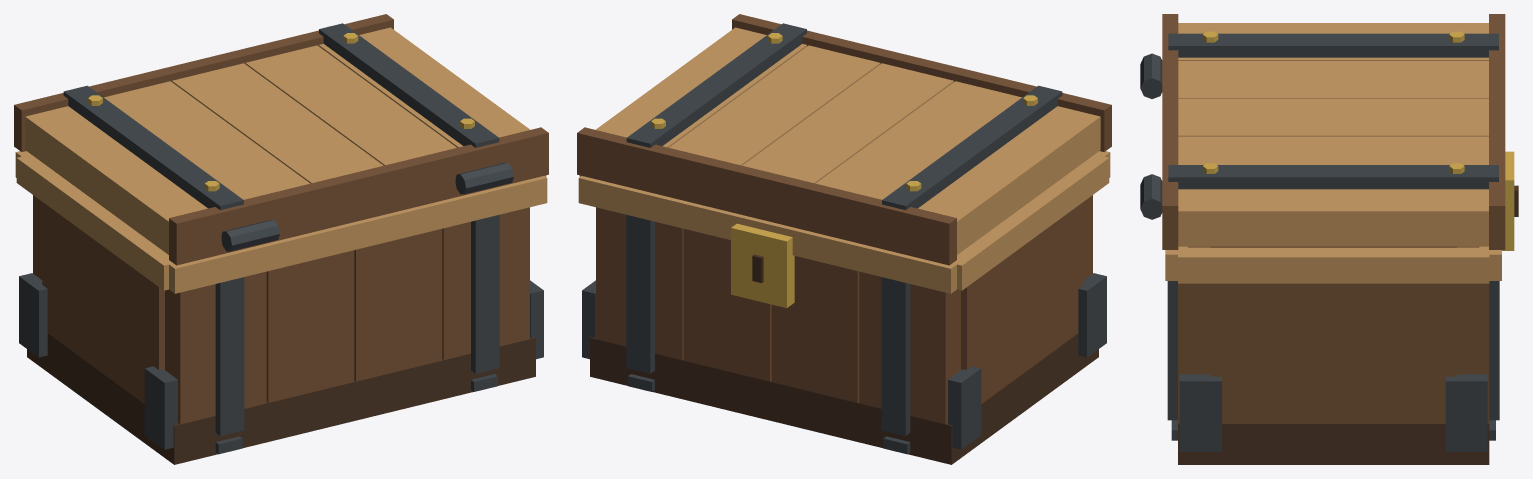
Rendered from chest.fbx.
3 views of the same model, side by side, from view 1: azimuth 30°, elevation 25°; view 2: azimuth 150°, elevation 25°; view 3: azimuth 270°, elevation 25° (orthographic). The views are drawn at different scales.
Visible parts, largest first — view 1: 00_floor, 37_lid_edge, 09_side_wall, 07_wall_plank, 06_wall_plank, 12_rim, 29_lid_plank, 31_lid_plank, 32_lid_plank, 30_lid_plank, 05_wall_plank, 08_wall_plank (+13 smaller); view 2: 36_lid_edge, 00_floor, 09_side_wall, 29_lid_plank, 02_wall_plank, 31_lid_plank, 32_lid_plank, 11_rim, 03_wall_plank, 30_lid_plank, 01_wall_plank, 04_wall_plank (+12 smaller); view 3: 10_side_wall, 33_lid_plank, 31_lid_plank, 30_lid_plank, 14_rim, 00_floor, 32_lid_plank, 34_lid_band, 35_lid_band, 29_lid_plank, 36_lid_edge, 37_lid_edge (+12 smaller).
Part boxes in pixels (box(x1,y1,x2,y2)): 00_floor: box(27, 333, 535, 464); 37_lid_edge: box(169, 127, 548, 265); 09_side_wall: box(42, 202, 164, 403); 07_wall_plank: box(354, 229, 442, 381); 06_wall_plank: box(266, 250, 354, 402); 12_rim: box(167, 176, 547, 293); 29_lid_plank: box(25, 106, 207, 254); 31_lid_plank: box(172, 63, 383, 183); 32_lid_plank: box(245, 45, 456, 165); 30_lid_plank: box(104, 81, 309, 199); 05_wall_plank: box(165, 271, 266, 424); 08_wall_plank: box(442, 207, 529, 359); 36_lid_edge: box(577, 127, 956, 265); 00_floor: box(590, 333, 1098, 464); 09_side_wall: box(961, 202, 1083, 403); 29_lid_plank: box(918, 106, 1100, 254); 02_wall_plank: box(771, 256, 859, 402); 31_lid_plank: box(742, 63, 953, 183); 32_lid_plank: box(669, 45, 880, 165); 11_rim: box(578, 176, 961, 293); 03_wall_plank: box(683, 229, 771, 381); 30_lid_plank: box(816, 81, 1021, 199); 01_wall_plank: box(859, 271, 960, 424); 04_wall_plank: box(596, 207, 683, 359); 10_side_wall: box(1210, 283, 1456, 423); 33_lid_plank: box(1178, 189, 1488, 246); 31_lid_plank: box(1178, 98, 1488, 136); 30_lid_plank: box(1178, 61, 1488, 98); 14_rim: box(1178, 247, 1489, 283); 00_floor: box(1178, 420, 1489, 464); 32_lid_plank: box(1178, 136, 1488, 164); 34_lid_band: box(1168, 33, 1498, 57); 35_lid_band: box(1168, 165, 1498, 189); 29_lid_plank: box(1178, 23, 1488, 60); 36_lid_edge: box(1489, 14, 1505, 249); 37_lid_edge: box(1162, 14, 1178, 249).
Bounding box in the file's own units: 0.719 × 0.462 × 0.583.
